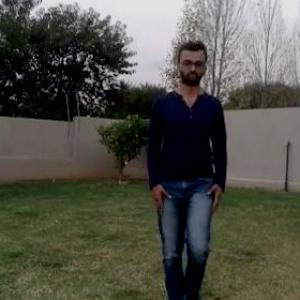follow: (147, 32, 227, 299)
